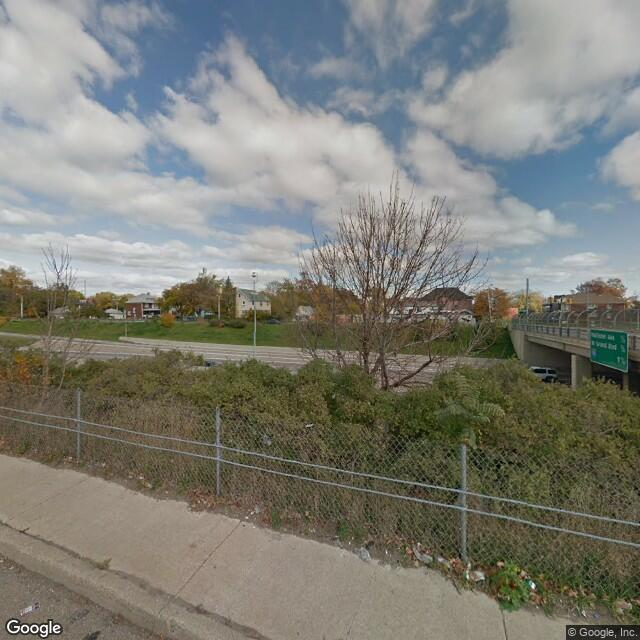litter: (412, 543, 436, 570), (465, 561, 484, 585), (17, 601, 37, 617), (360, 547, 372, 565), (531, 578, 537, 590)
